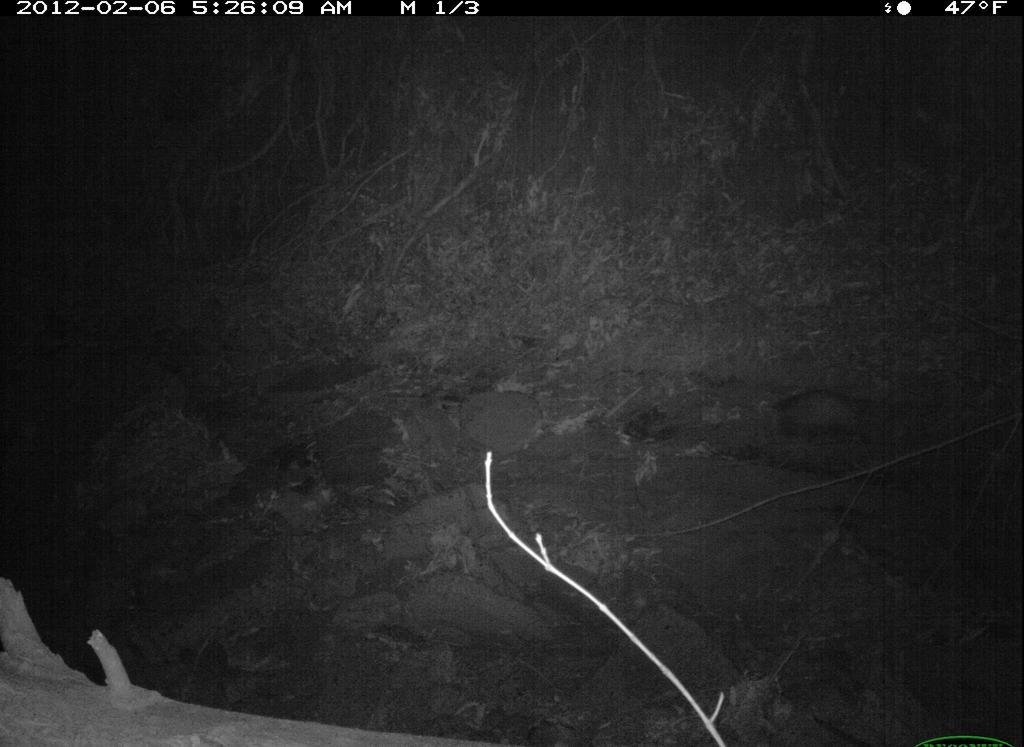opossum: (766, 386, 885, 452)
